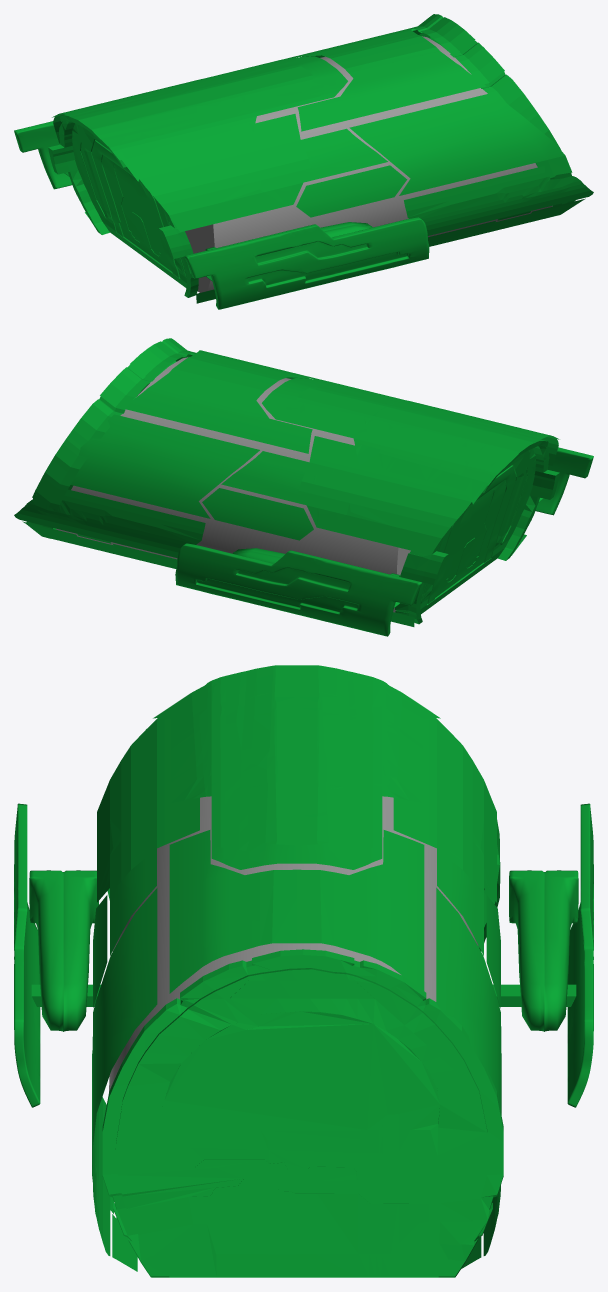
File: Jumper.FBX
The picture shows the model from 3 angles, top to bottom: view 1: azimuth 30°, elevation 25°; view 2: azimuth 150°, elevation 25°; view 3: azimuth 270°, elevation 25°; orthographic projection. The views are drawn at different scales.
Visible parts, largest first — view 1: Jumper; view 2: Jumper; view 3: Jumper.
Boxes of the visible parts, bbox=[...] form: Jumper: bbox=[14, 14, 593, 309]; Jumper: bbox=[14, 338, 593, 636]; Jumper: bbox=[14, 665, 593, 1277].
Bounding box in the file's own units: 532 × 188 × 358.
